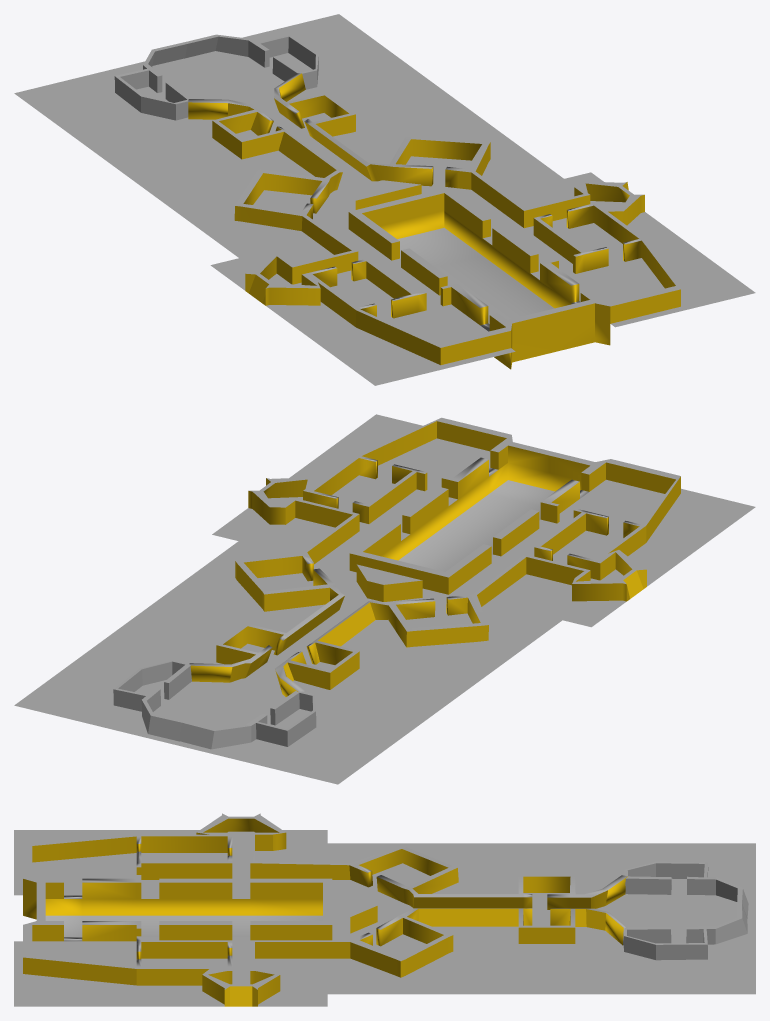
Rendered from FPS-frieghterLevel-edit.fbx.
The picture shows the model from 3 angles, top to bottom: view 1: azimuth 30°, elevation 25°; view 2: azimuth 150°, elevation 25°; view 3: azimuth 270°, elevation 25°; orthographic projection. The views are drawn at different scales.
Parts seen in each view (by area): view 1: pPlane4, pPlane4.002, pPlane4.001; view 2: pPlane4, pPlane4.001, pPlane4.002; view 3: pPlane4, pPlane4.002, pPlane4.001.
Part boxes in pixels (x1,y1,x2,y2): pPlane4: [14, 14, 755, 385]; pPlane4.002: [185, 34, 318, 89]; pPlane4.001: [114, 42, 192, 120]; pPlane4: [14, 414, 755, 784]; pPlane4.001: [179, 691, 316, 749]; pPlane4.002: [113, 660, 191, 741]; pPlane4: [14, 813, 755, 1006]; pPlane4.002: [623, 903, 747, 960]; pPlane4.001: [624, 861, 748, 918].
Bounding box in the file's own units: 46.01 × 4.55 × 81.61.
